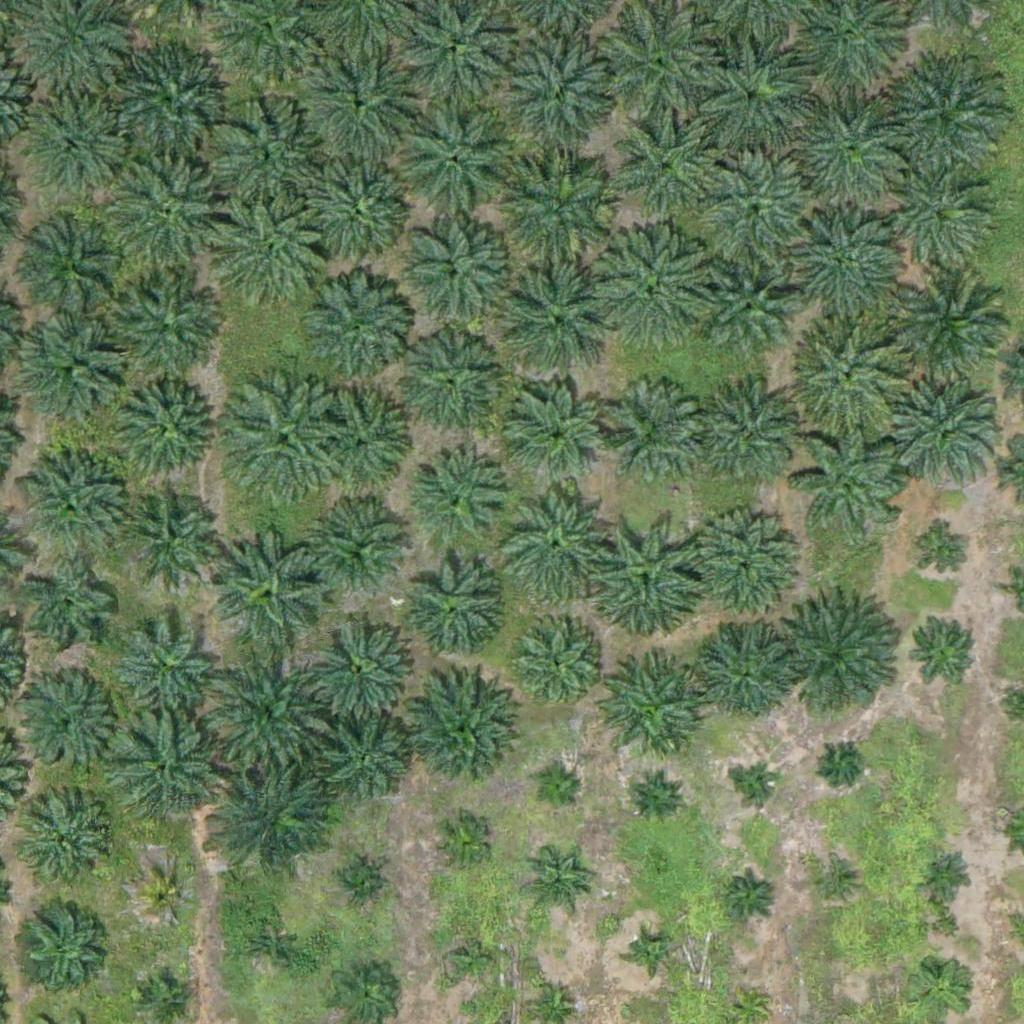Kelapa_Sawit: (107, 38, 232, 164), (103, 149, 228, 275), (211, 194, 336, 320), (204, 96, 329, 222), (298, 37, 423, 163), (294, 144, 419, 270), (290, 265, 415, 391), (392, 215, 517, 341), (392, 98, 517, 224), (498, 145, 623, 271), (497, 261, 622, 387), (595, 1, 720, 127), (685, 35, 810, 161), (693, 157, 818, 283), (780, 208, 905, 334), (788, 94, 913, 220), (881, 56, 1006, 182), (892, 276, 1017, 402), (586, 515, 711, 641), (494, 481, 619, 607), (219, 376, 344, 502), (204, 646, 329, 772), (212, 757, 337, 883), (498, 32, 623, 157), (593, 228, 718, 353), (782, 596, 907, 721), (403, 677, 516, 791), (794, 423, 907, 536), (683, 509, 796, 622), (112, 715, 225, 828), (17, 450, 130, 563), (304, 607, 416, 721), (214, 527, 326, 641), (19, 210, 131, 323), (108, 276, 220, 389), (891, 383, 1003, 496), (795, 318, 907, 431), (592, 659, 704, 772), (618, 119, 718, 220), (892, 171, 992, 272), (693, 620, 793, 721), (699, 385, 799, 486), (598, 384, 698, 485), (508, 387, 608, 488), (507, 614, 607, 715), (396, 334, 496, 435), (408, 450, 508, 551), (310, 383, 410, 484), (116, 616, 216, 717), (20, 562, 120, 663), (15, 671, 115, 772), (31, 105, 131, 205), (400, 559, 500, 659), (313, 498, 413, 598), (113, 378, 213, 478), (122, 486, 222, 586), (25, 322, 125, 422), (26, 800, 114, 889), (322, 718, 410, 806), (703, 267, 790, 356), (20, 896, 107, 984), (906, 612, 981, 687), (524, 857, 587, 920), (430, 811, 493, 874), (441, 928, 504, 991), (911, 958, 973, 1021), (238, 915, 300, 978), (920, 529, 970, 580), (331, 857, 381, 908), (631, 772, 681, 822), (725, 870, 775, 920), (921, 849, 971, 899), (532, 767, 582, 817), (142, 874, 192, 924), (822, 742, 860, 780), (633, 933, 671, 971), (739, 768, 776, 806), (816, 866, 853, 904)
